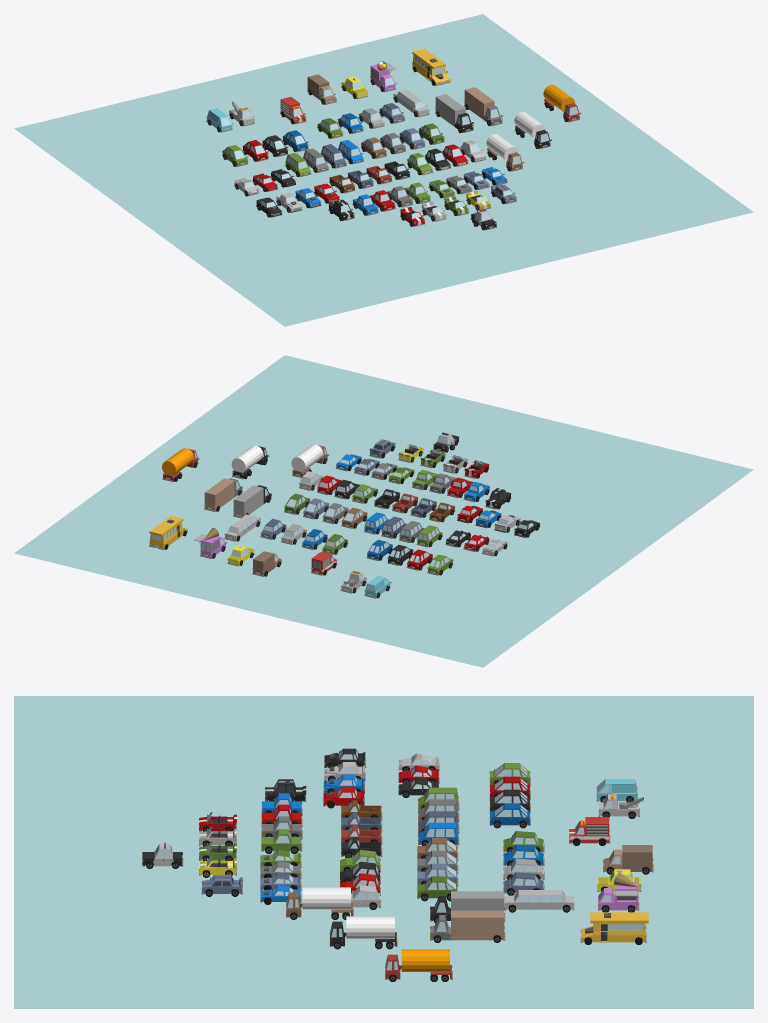
Rendered from cars (1).fbx.
3 views of the same model, one above another, from view 1: azimuth 30°, elevation 25°; view 2: azimuth 150°, elevation 25°; view 3: azimuth 270°, elevation 25° (orthographic). The views are drawn at different scales.
Visible parts, largest first — view 1: Plane, school bus, Truck, Truck gree, benzovoz, benzovoz black, benzovoz whell color, ice cream, mini truck, limousine; view 2: Plane, Truck gree, school bus, Truck, benzovoz whell color, benzovoz black, benzovoz, ice cream, limousine; view 3: Plane, Truck gree, school bus, benzovoz black, benzovoz whell color, benzovoz, Truck, limousine, mini truck, ice cream, fire, suv2 blue dark (+23 smaller).
Part boxes in pixels (<box>): Plane: <box>14,14,753,326</box>; school bus: <box>412,48,450,85</box>; Truck: <box>435,94,473,133</box>; Truck gree: <box>464,87,502,126</box>; benzovoz: <box>486,134,524,171</box>; benzovoz black: <box>514,111,551,149</box>; benzovoz whell color: <box>543,84,581,122</box>; ice cream: <box>370,61,397,91</box>; mini truck: <box>307,74,336,104</box>; limousine: <box>393,89,429,117</box>; Plane: <box>14,355,753,667</box>; Truck gree: <box>204,478,242,511</box>; school bus: <box>149,516,187,549</box>; Truck: <box>233,485,271,518</box>; benzovoz whell color: <box>162,448,199,481</box>; benzovoz black: <box>231,445,269,479</box>; benzovoz: <box>291,444,329,477</box>; ice cream: <box>194,527,227,558</box>; limousine: <box>224,514,260,541</box>; Plane: <box>14,696,753,1008</box>; Truck gree: <box>430,910,505,940</box>; school bus: <box>580,912,648,942</box>; benzovoz black: <box>329,916,397,946</box>; benzovoz whell color: <box>385,949,452,979</box>; benzovoz: <box>286,887,353,917</box>; Truck: <box>430,891,505,921</box>; limousine: <box>504,890,574,910</box>; mini truck: <box>603,845,653,872</box>; ice cream: <box>598,872,639,910</box>; fire: <box>569,817,610,843</box>; suv2 blue dark: <box>489,803,530,825</box>.
Size of the model in its own units: 8827 by 473 by 8827.
